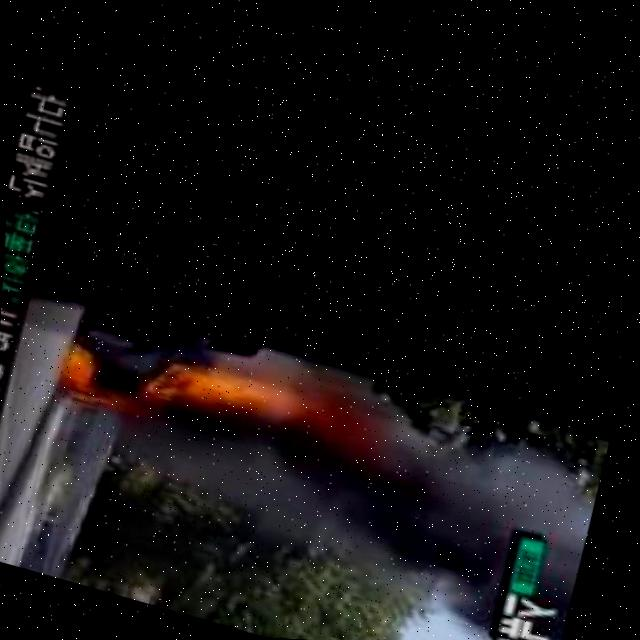fire: (142, 353, 404, 450), (58, 335, 115, 400)
